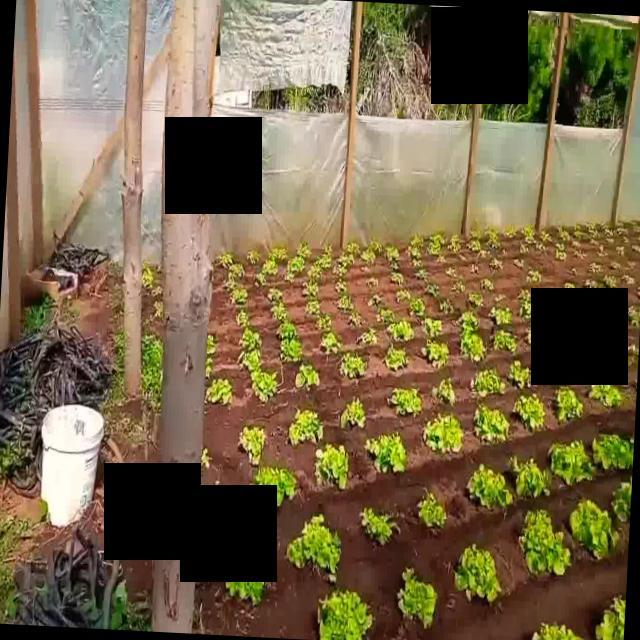Lettuce: (286, 513, 340, 575), (520, 508, 568, 575), (315, 589, 374, 640), (570, 499, 618, 560), (454, 545, 502, 601), (400, 566, 438, 627), (548, 441, 596, 484), (467, 464, 512, 509), (253, 466, 300, 506), (592, 432, 634, 472), (314, 444, 350, 490), (422, 413, 463, 453), (366, 433, 406, 474), (512, 456, 548, 497), (594, 593, 625, 640), (474, 403, 511, 442), (287, 408, 323, 446), (362, 506, 396, 546), (416, 491, 448, 529), (514, 395, 545, 430), (239, 426, 266, 464), (226, 581, 267, 606), (552, 386, 583, 419), (388, 387, 422, 417), (532, 620, 583, 640), (470, 368, 506, 396), (611, 480, 633, 521), (460, 330, 488, 360), (251, 371, 278, 402), (340, 398, 366, 429), (587, 385, 623, 407), (422, 340, 449, 367), (206, 379, 234, 405), (431, 377, 457, 405), (294, 364, 321, 390), (339, 353, 366, 379), (506, 362, 531, 388), (492, 329, 518, 352), (280, 339, 303, 363), (239, 328, 263, 351), (385, 346, 408, 370), (320, 329, 342, 354), (389, 320, 415, 341), (488, 306, 514, 325), (457, 310, 479, 330), (422, 317, 442, 338), (243, 350, 262, 372), (276, 321, 296, 339), (358, 327, 379, 344), (409, 299, 427, 317), (438, 297, 456, 315), (315, 312, 332, 331), (269, 247, 289, 263), (347, 311, 365, 328), (260, 259, 279, 275), (228, 264, 246, 280), (288, 258, 306, 274), (336, 295, 354, 311), (230, 290, 249, 305), (301, 282, 320, 297), (336, 252, 355, 267), (295, 242, 312, 258), (265, 286, 284, 300), (628, 306, 640, 328), (395, 288, 411, 304), (270, 303, 287, 318), (431, 230, 448, 245), (378, 308, 395, 323), (525, 270, 543, 284), (586, 262, 604, 276), (216, 253, 232, 268), (235, 310, 250, 326), (306, 300, 321, 316), (308, 265, 322, 282), (468, 292, 483, 307), (361, 248, 375, 264), (449, 234, 463, 250), (388, 270, 404, 284), (386, 243, 399, 260), (405, 246, 422, 259), (466, 238, 483, 251), (471, 221, 482, 241), (223, 278, 237, 293), (246, 250, 261, 264), (411, 233, 425, 248), (484, 225, 499, 239), (480, 278, 495, 292), (369, 294, 384, 308), (315, 256, 331, 269), (332, 264, 349, 276), (519, 302, 531, 319), (344, 244, 362, 255), (334, 278, 348, 292), (521, 224, 535, 238), (604, 274, 618, 288), (517, 288, 531, 302), (426, 242, 441, 255), (486, 236, 502, 248), (488, 258, 504, 270), (622, 274, 638, 286), (370, 240, 383, 254), (426, 283, 440, 296), (452, 280, 465, 294), (584, 278, 602, 288), (254, 274, 267, 287), (557, 230, 572, 241), (364, 277, 380, 287), (505, 226, 517, 239), (524, 233, 538, 244), (574, 229, 588, 240), (596, 246, 610, 257), (415, 270, 430, 280), (553, 241, 566, 252), (478, 250, 492, 260), (324, 242, 334, 255), (540, 231, 553, 241), (574, 251, 588, 260), (608, 261, 622, 270), (590, 228, 601, 239), (445, 266, 456, 277), (604, 228, 616, 238), (513, 258, 525, 268), (556, 252, 568, 262), (615, 227, 629, 235), (284, 272, 295, 282), (571, 241, 583, 250), (412, 258, 422, 268), (469, 264, 479, 274), (564, 281, 578, 288), (520, 245, 530, 254), (437, 256, 448, 264), (589, 238, 600, 246), (389, 262, 401, 269), (616, 247, 625, 256), (536, 244, 546, 252), (631, 244, 640, 252), (622, 236, 630, 243)
